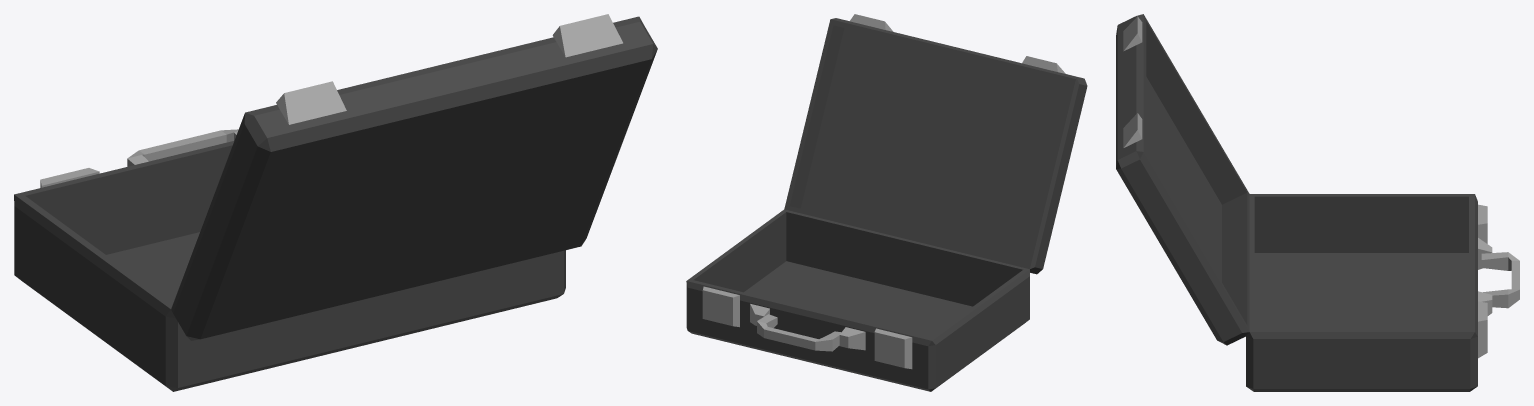
File: suitcase.fbx
The picture shows the model from 3 angles, left to right: view 1: azimuth 30°, elevation 25°; view 2: azimuth 150°, elevation 25°; view 3: azimuth 270°, elevation 25°; orthographic projection. The views are drawn at different scales.
Visible parts, largest first — view 1: suitcase, suitcase.001; view 2: suitcase, suitcase.001; view 3: suitcase.001, suitcase.
Boxes of the visible parts, x1=… form: suitcase: x1=171, y1=14, x2=657, y2=340; suitcase.001: x1=14, y1=129, x2=565, y2=391; suitcase: x1=784, y1=14, x2=1087, y2=274; suitcase.001: x1=686, y1=209, x2=1029, y2=391; suitcase.001: x1=1246, y1=194, x2=1519, y2=391; suitcase: x1=1116, y1=14, x2=1249, y2=345.
Bounding box in the file's own units: 48.73 × 40.83 × 59.36.
